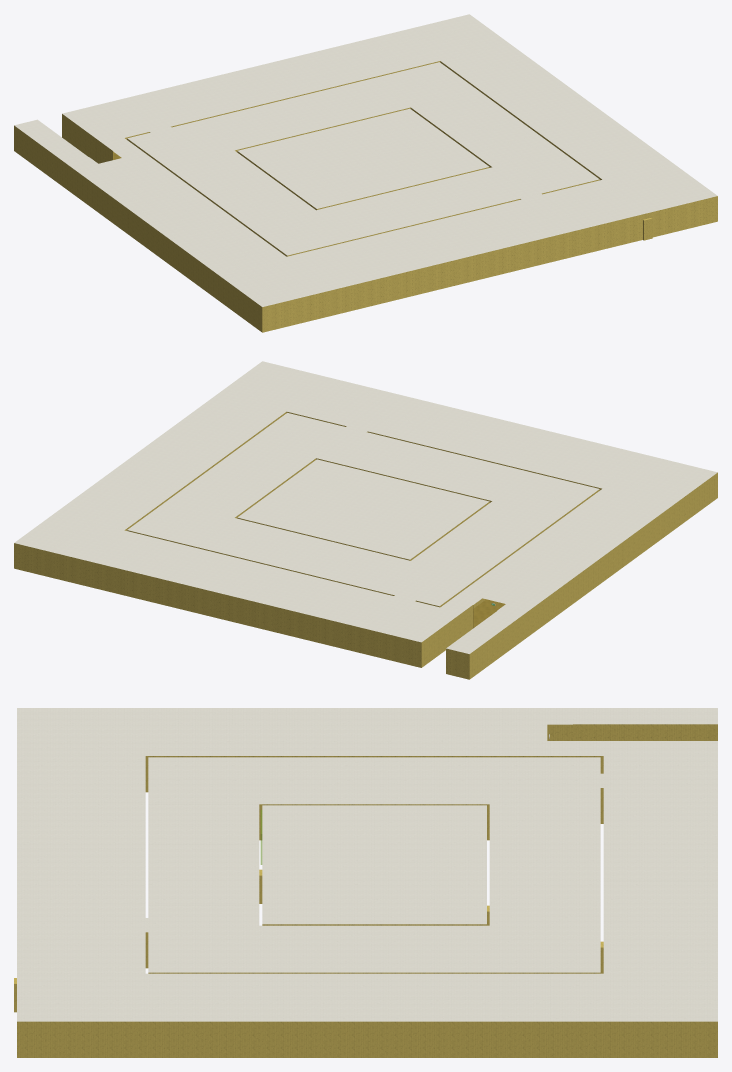
The model's file is gbi_L1_4.glb.
3 renders of one model, top to bottom at view 1: azimuth 30°, elevation 25°; view 2: azimuth 150°, elevation 25°; view 3: azimuth 270°, elevation 25°, orthographic. The views are drawn at different scales.
Visible parts, largest first — view 1: M_D_ceil_L1, M_D_wall_L1, M_GBI_kit; view 2: M_D_ceil_L1, M_D_wall_L1, M_GBI_kit; view 3: M_D_ceil_L1, M_D_wall_L1, M_GBI_kit.
Boxes of the visible parts, x1,y1,x2,y2 form: M_D_ceil_L1: (14, 14, 717, 306); M_D_wall_L1: (14, 61, 717, 332); M_GBI_kit: (62, 114, 113, 163); M_D_ceil_L1: (14, 361, 717, 653); M_D_wall_L1: (14, 411, 717, 679); M_GBI_kit: (421, 605, 473, 667); M_D_ceil_L1: (17, 708, 717, 1021); M_D_wall_L1: (14, 724, 717, 1057); M_GBI_kit: (573, 724, 717, 740).
Bounding box in the file's own units: 52.2 × 2.8 × 49.5.
17 materials, 7 textured.
